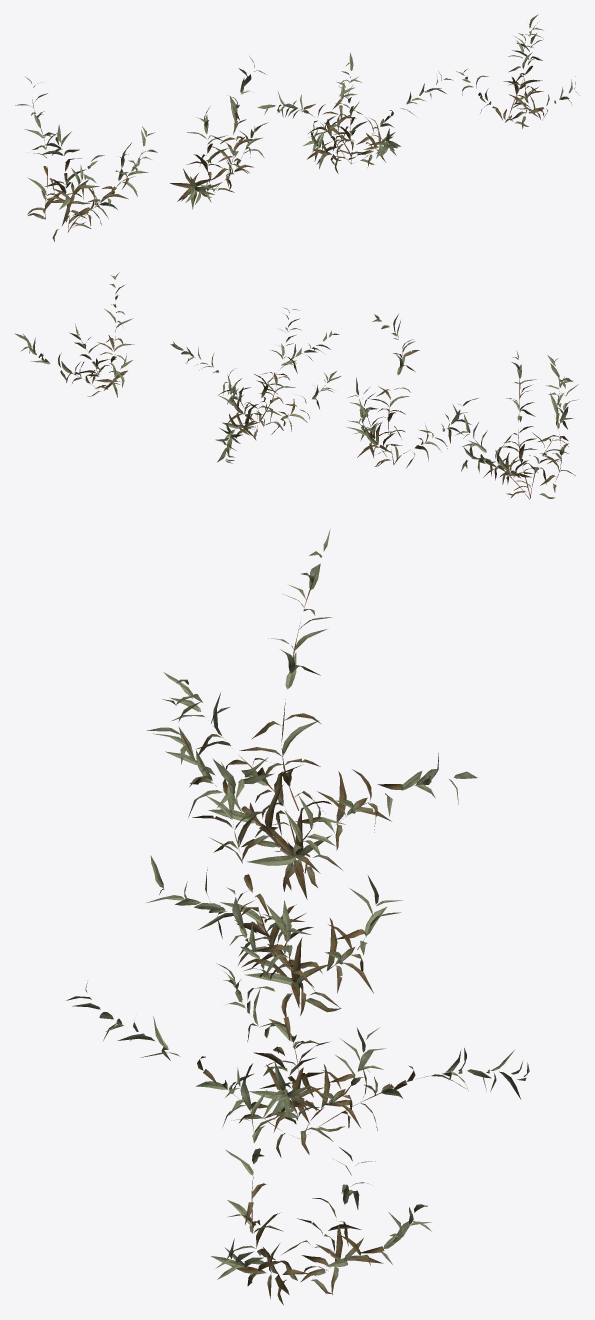
File: shrub_02.glb
3 views of the same model, one above another, from view 1: azimuth 30°, elevation 25°; view 2: azimuth 150°, elevation 25°; view 3: azimuth 270°, elevation 25° (orthographic). The views are drawn at different scales.
Parts seen in each view (by area): view 1: shrub_02_a; view 2: shrub_02_a; view 3: shrub_02_a.
Boxes of the visible parts, x1,y1,x2,y2 form: shrub_02_a: [15, 14, 579, 241]; shrub_02_a: [14, 272, 578, 499]; shrub_02_a: [66, 529, 529, 1305].
Size of the model in its own units: 6.05 by 1.7 by 2.28.
Materials: 1 (1 with a texture image).
